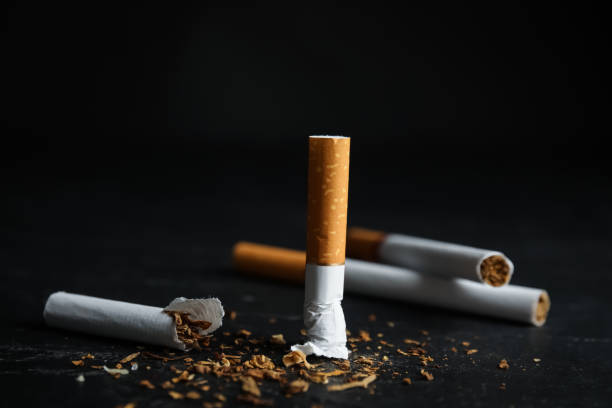cigarette: (232, 240, 552, 328), (289, 132, 353, 367), (40, 289, 227, 354), (344, 226, 516, 290)
